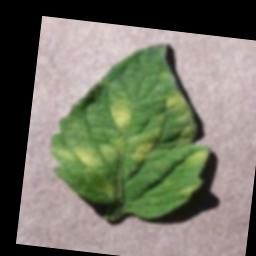Leaf_Mold: (50, 129, 126, 171), (162, 89, 202, 145), (106, 95, 135, 132), (124, 134, 157, 165), (179, 179, 202, 203), (184, 145, 210, 166)
